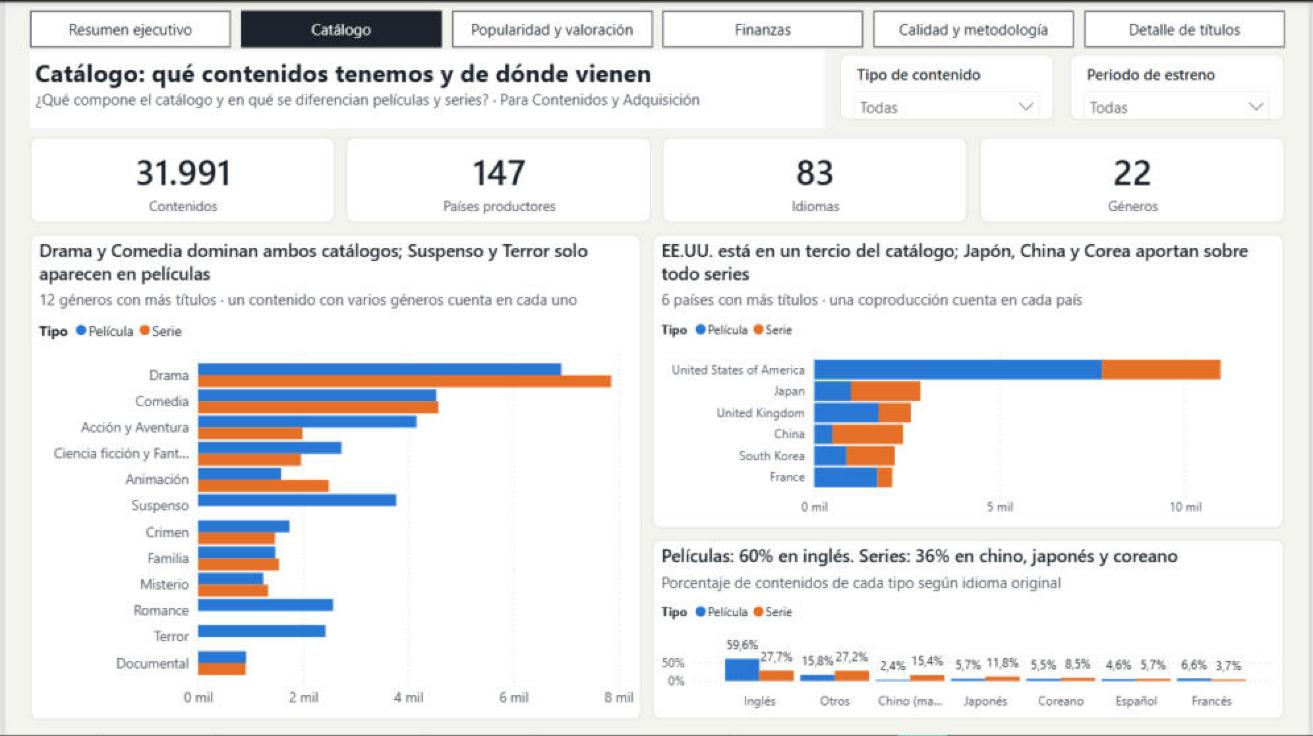

The dashboard page shown, as its layout file describes it:
{"tool":"powerbi","page":{"name":"Catálogo","canvas":[1280,720],"ordinal":1},"visuals":[{"type":"textbox","box":[24,48,780,76],"z":1000},{"type":"pageNavigator","box":[24,8,1232,36],"z":2000},{"type":"slicer","fields":{"Values":["Catalogo.tipo"]},"box":[820,52,210,64],"z":3000},{"type":"slicer","fields":{"Values":["Catalogo.periodo"]},"box":[1046,52,210,64],"z":4000},{"type":"card","fields":{"Values":["Catalogo.Contenidos"]},"box":[24,132,299,84],"z":5000},{"type":"card","fields":{"Values":["Paises.Países productores"]},"box":[335,132,299,84],"z":6000},{"type":"card","fields":{"Values":["Catalogo.Idiomas"]},"box":[646,132,299,84],"z":7000},{"type":"card","fields":{"Values":["Generos.Géneros armonizados"]},"box":[957,132,299,84],"z":8000},{"type":"clusteredBarChart","title":"Drama y Comedia dominan ambos catálogos; Suspenso y Terror solo aparecen en películas","fields":{"Category":["Generos.genero"],"Series":["Catalogo.tipo"],"Y":["Generos.Contenidos por género"]},"box":[24,228,600,476],"z":9000},{"type":"clusteredColumnChart","title":"Películas: 60% en inglés. Series: 36% en chino, japonés y coreano","fields":{"Category":["Catalogo.idioma_grupo"],"Series":["Catalogo.tipo"],"Y":["Catalogo.% del tipo"]},"box":[636,528,620,176],"z":10000},{"type":"barChart","title":"EE.UU. está en un tercio del catálogo; Japón, China y Corea aportan sobre todo series","fields":{"Category":["Paises.pais"],"Series":["Catalogo.tipo"],"Y":["Paises.Contenidos por país"]},"box":[636,228,620,288],"z":11000}]}

Visuals, with their boxes in screenshot pixels (x1, y1, x2, y2), scaled from the page's 1280x720 canvas onto the 1313x736 screenshot:
textbox: [25,49,825,127]
pageNavigator: [25,8,1288,45]
slicer - Catalogo.tipo: [841,53,1057,119]
slicer - Catalogo.periodo: [1073,53,1288,119]
card - Catalogo.Contenidos: [25,135,331,221]
card - Paises.Países productores: [344,135,650,221]
card - Catalogo.Idiomas: [663,135,969,221]
card - Generos.Géneros armonizados: [982,135,1288,221]
"Drama y Comedia dominan ambos catálogos; Suspenso y Terror solo aparecen en películas" clusteredBarChart: [25,233,640,720]
"Películas: 60% en inglés. Series: 36% en chino, japonés y coreano" clusteredColumnChart: [652,540,1288,720]
"EE.UU. está en un tercio del catálogo; Japón, China y Corea aportan sobre todo series" barChart: [652,233,1288,527]
